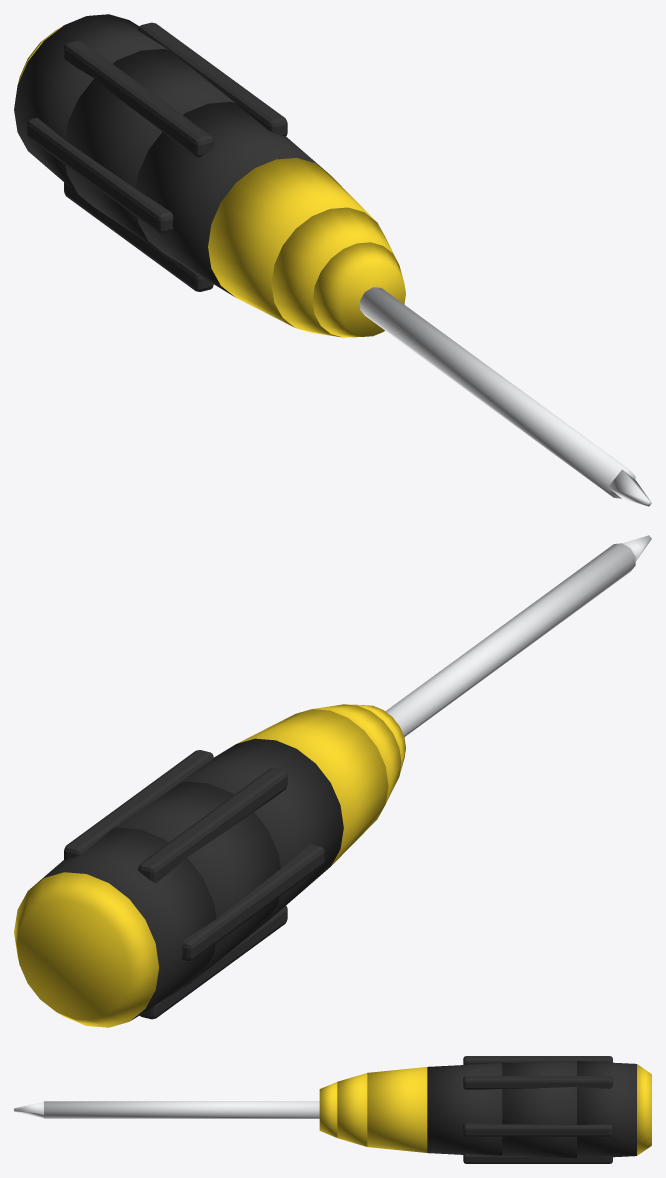
Rendered from screwdriver_ph2.glb.
3 views of the same model, one above another, from view 1: azimuth 30°, elevation 25°; view 2: azimuth 150°, elevation 25°; view 3: azimuth 270°, elevation 25° (orthographic). The views are drawn at different scales.
Visible parts, largest first — view 1: Handle_3, Handle_4, Handle_2, Shaft, Handle_1, Handle_5, Handle_6, Grip_Rib_2, Grip_Rib_3, Grip_Rib_1, Grip_Rib_4, Tip_PH2; view 2: Handle_0, Handle_1, Handle_2, Handle_3, Shaft, Handle_4, Grip_Rib_2, Grip_Rib_3, Grip_Rib_1, Handle_5, Grip_Rib_4; view 3: Handle_3, Handle_2, Shaft, Handle_4, Handle_1, Handle_5, Grip_Rib_0, Grip_Rib_1, Handle_0, Grip_Rib_5, Grip_Rib_2, Handle_6 (+1 smaller).
Part boxes in pixels (x1,y1,x2,y2): Handle_3: [136, 102, 327, 297]; Handle_4: [208, 158, 376, 327]; Handle_2: [65, 49, 234, 251]; Shaft: [360, 287, 635, 498]; Handle_1: [14, 14, 168, 193]; Handle_5: [271, 207, 397, 337]; Handle_6: [312, 242, 405, 337]; Grip_Rib_2: [64, 40, 213, 157]; Grip_Rib_3: [27, 118, 173, 233]; Grip_Rib_1: [138, 22, 287, 136]; Grip_Rib_4: [64, 182, 213, 291]; Tip_PH2: [608, 469, 651, 506]; Handle_0: [14, 872, 159, 1027]; Handle_1: [30, 827, 216, 1020]; Handle_2: [113, 781, 280, 972]; Handle_3: [181, 738, 343, 920]; Shaft: [385, 543, 635, 736]; Handle_4: [237, 709, 388, 865]; Grip_Rib_2: [138, 768, 287, 882]; Grip_Rib_3: [182, 844, 324, 961]; Grip_Rib_1: [64, 750, 213, 860]; Handle_5: [313, 704, 401, 802]; Grip_Rib_4: [139, 906, 287, 1019]; Handle_3: [427, 1063, 502, 1155]; Handle_2: [502, 1061, 576, 1158]; Shaft: [44, 1101, 319, 1118]; Handle_4: [367, 1067, 427, 1152]; Handle_1: [577, 1061, 636, 1158]; Handle_5: [337, 1073, 367, 1146]; Grip_Rib_0: [463, 1123, 612, 1136]; Grip_Rib_1: [463, 1076, 612, 1089]; Handle_0: [637, 1064, 651, 1155]; Grip_Rib_5: [463, 1154, 612, 1163]; Grip_Rib_2: [463, 1056, 612, 1064]; Handle_6: [319, 1082, 337, 1137].
Size of the model in its own units: 0.0356 by 0.033 by 0.213.
